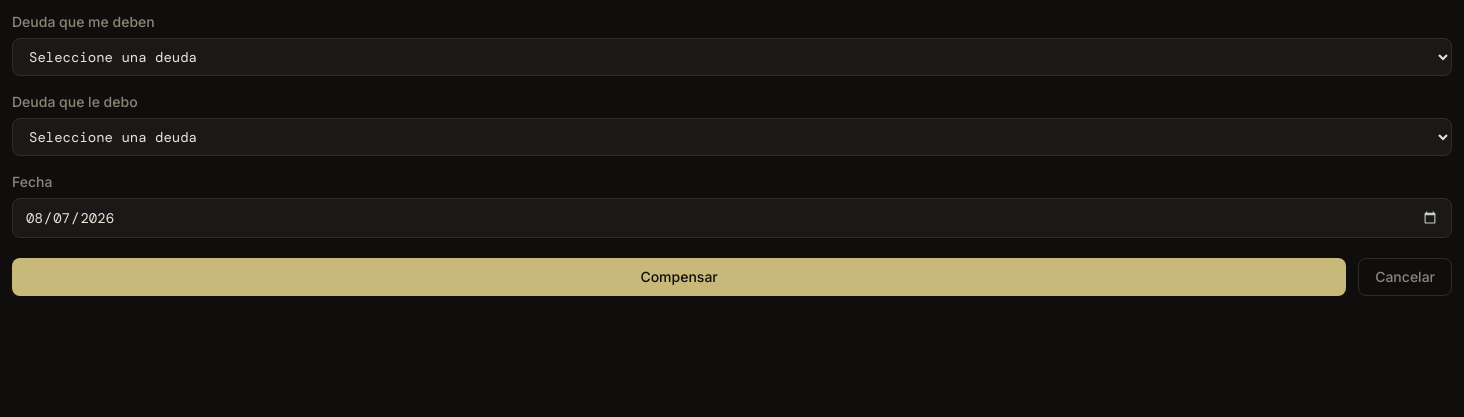
PersonalDebtOffsetForm › shows the offset preview from the guiding example once both debts are selected
The image size is (1464, 417).
Select "Uber ($4,00 USD)" in the dropdown labelled "Deuda que me deben" at {"x": 732, "y": 57}, box top-left (12, 38), bottom-right (1452, 76)
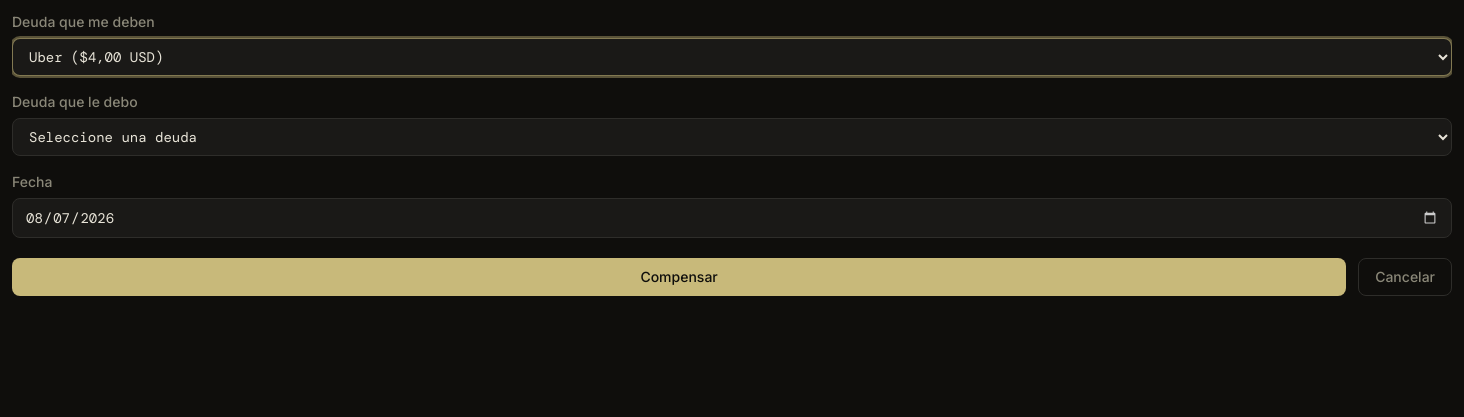
Select "Cena ($5,00 USD)" in the dropdown labelled "Deuda que le debo" at {"x": 732, "y": 137}, box top-left (12, 118), bottom-right (1452, 156)
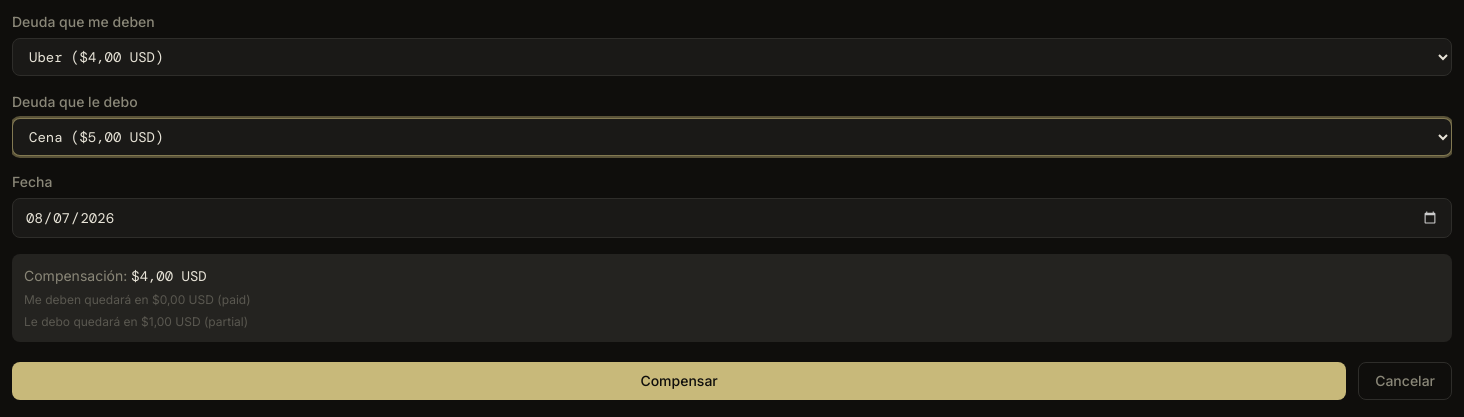
Result: the text "Compensación: $4,00 USD" is shown at top-left (24, 267), bottom-right (207, 285)
Result: the text "$4,00 USD" is shown at top-left (131, 267), bottom-right (207, 285)
